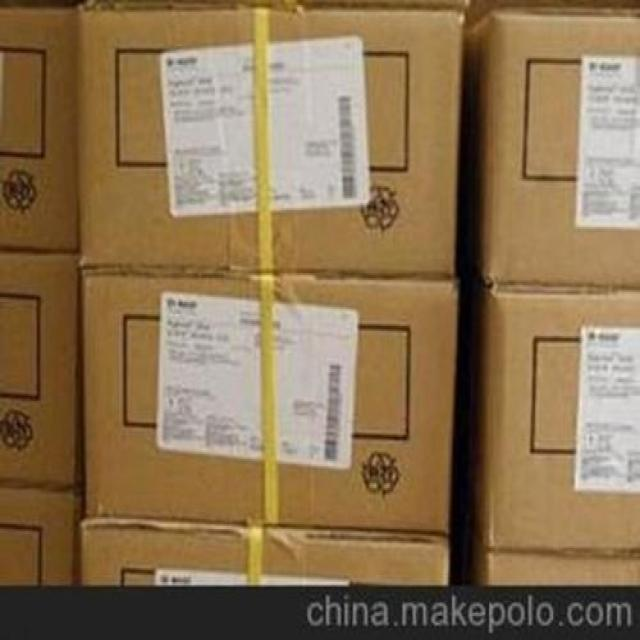box: (78, 0, 467, 275), (81, 271, 458, 534), (460, 10, 640, 287), (477, 283, 640, 553), (81, 519, 449, 585), (0, 251, 81, 488), (0, 5, 78, 251), (0, 483, 81, 589)
